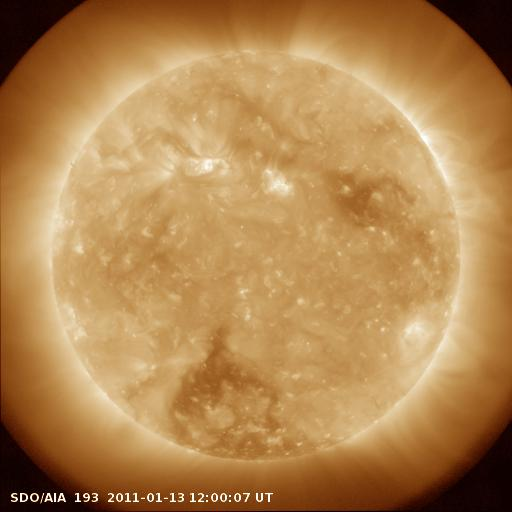coronal_hole: (162, 330, 283, 403), (333, 169, 391, 232)
